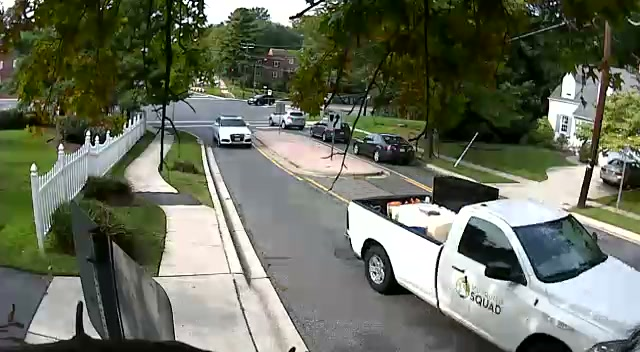car: (343, 176, 639, 352), (348, 132, 415, 165), (600, 149, 640, 189), (212, 115, 253, 148), (309, 120, 351, 143), (280, 110, 306, 130)
truck: (343, 175, 640, 352), (211, 115, 253, 148), (268, 100, 297, 128)
